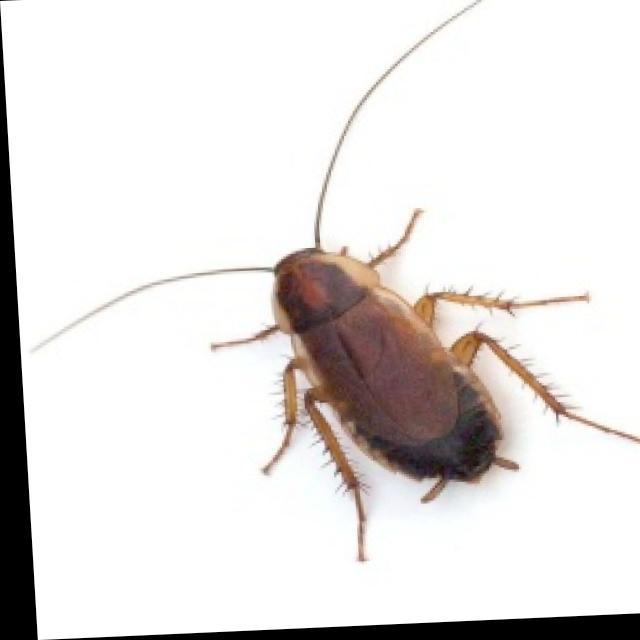cockroach: (201, 189, 602, 579)
